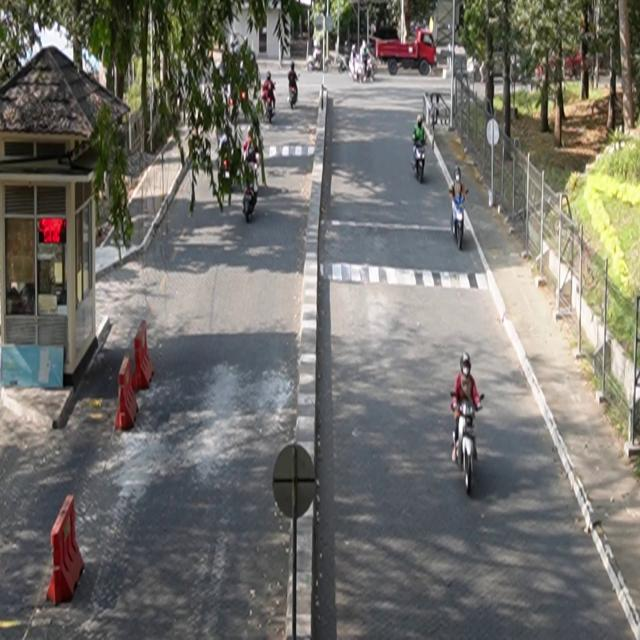truck: (370, 27, 439, 77)
